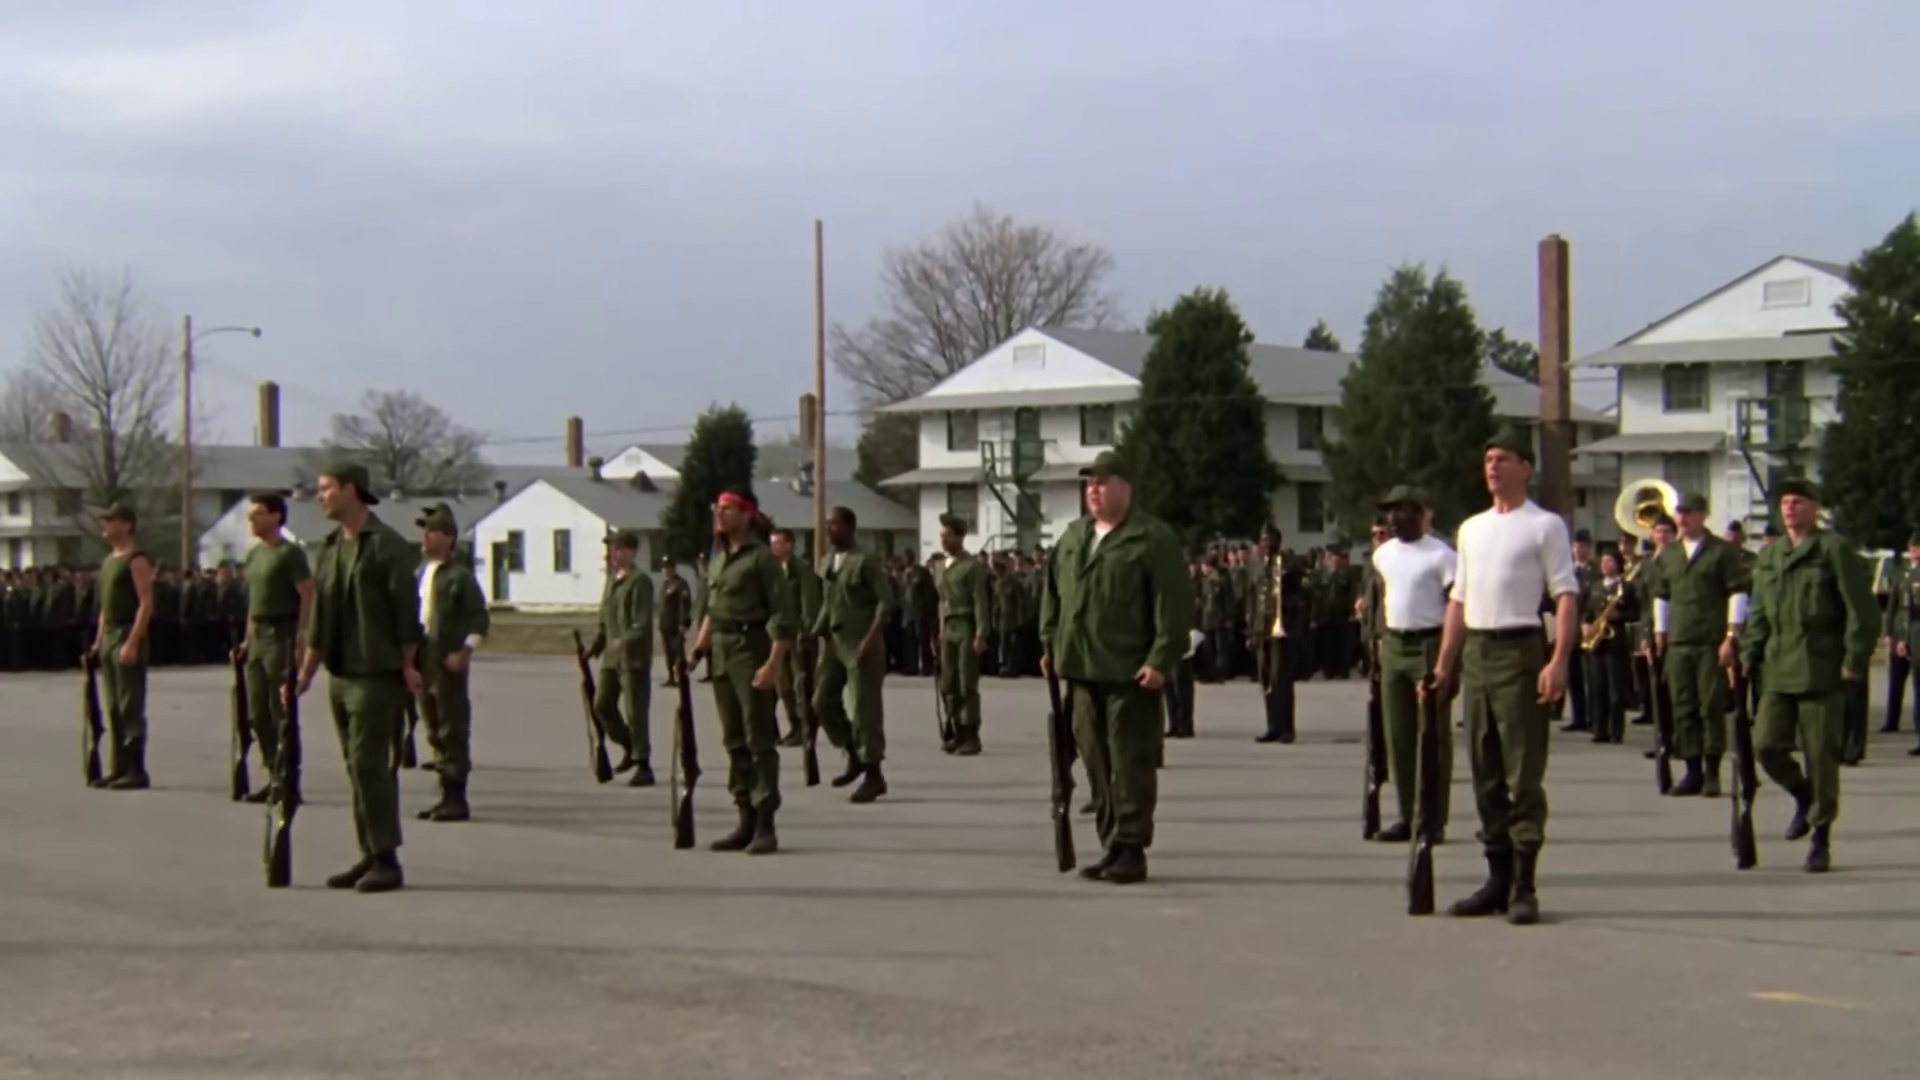gun: (1400, 640, 1449, 919), (260, 633, 310, 890), (1042, 636, 1083, 870), (1726, 633, 1766, 870), (666, 630, 704, 852), (571, 628, 616, 786), (1642, 612, 1680, 793), (222, 615, 256, 803), (1358, 636, 1389, 843), (76, 625, 113, 791), (1580, 560, 1638, 654), (793, 620, 823, 785)
p_w_gun: (1393, 431, 1585, 926), (249, 459, 425, 895), (1035, 452, 1193, 882), (1725, 475, 1873, 878), (661, 485, 795, 855), (1344, 483, 1462, 847), (1638, 491, 1750, 795), (789, 504, 895, 804), (218, 489, 314, 799), (74, 500, 158, 795), (571, 527, 658, 789), (1578, 546, 1643, 742)
p_wo_gun_carrying_another_object: (924, 510, 990, 756)
p_wo_gun_not_carrying_normal_pose: (404, 508, 491, 824), (1240, 518, 1312, 742), (654, 551, 692, 686)
